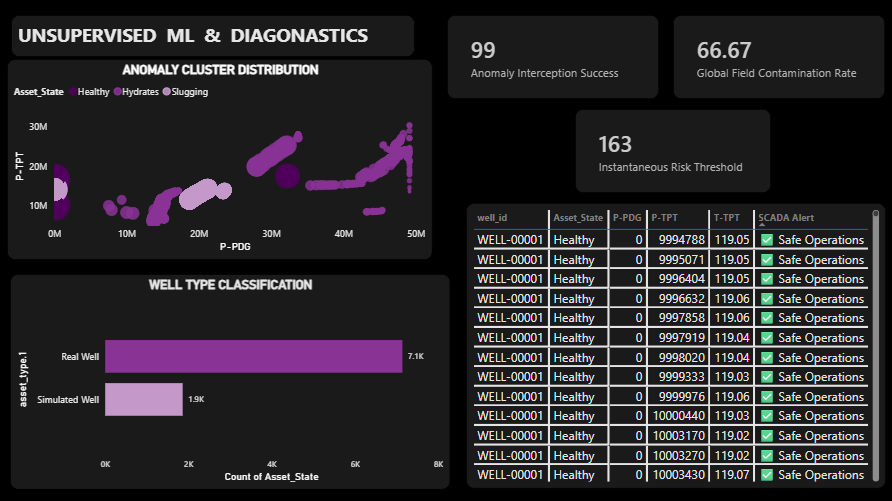

This screenshot's page, from the dashboard's own definition file:
{"tool":"powerbi","page":{"name":"Page 3","canvas":[1280,720],"ordinal":2},"visuals":[{"type":"shape","box":[0,0,1280,720],"z":0},{"type":"textbox","box":[16.7,21.7,576.7,60],"z":500},{"type":"cardVisual","fields":{"Data":["balanced_master_data.Anomaly Interception Success"]},"box":[640,21.7,303.3,120],"z":1000},{"type":"cardVisual","fields":{"Data":["balanced_master_data.Global Field Contamination Rate"]},"box":[963.3,21.7,303.3,120],"z":2000},{"type":"cardVisual","fields":{"Data":["balanced_master_data.Instantaneous Risk Threshold"]},"box":[823.3,155,280,120],"z":3000},{"type":"clusteredBarChart","title":"WELL TYPE CLASSIFICATION","fields":{"Category":["balanced_master_data.Asset_Type"],"Y":["CountNonNull(balanced_master_data.Asset_State)"]},"box":[15,391.2,628.8,307.5],"z":4000},{"type":"scatterChart","title":"ANOMALY CLUSTER DISTRIBUTION","fields":{"X":["balanced_master_data.P-PDG"],"Y":["balanced_master_data.P-TPT"],"Series":["balanced_master_data.Asset_State"],"Size":["Sum(balanced_master_data.T-TPT)"]},"box":[11.7,85,608.3,286.7],"z":5000},{"type":"tableEx","fields":{"Values":["balanced_master_data.well_id","balanced_master_data.Asset_State","balanced_master_data.P-PDG","balanced_master_data.P-TPT","balanced_master_data.T-TPT","balanced_master_data.SCADA Alert"]},"box":[666.7,290,600,408.3],"z":6000}]}

Visuals, with their boxes in screenshot pixels (x1, y1, x2, y2), scaled from the page's 1280x720 canvas onto the 892x501 screenshot:
shape: <box>0,0,891,500</box>
textbox: <box>12,15,414,57</box>
cardVisual - balanced_master_data.Anomaly Interception Success: <box>446,15,657,99</box>
cardVisual - balanced_master_data.Global Field Contamination Rate: <box>671,15,883,99</box>
cardVisual - balanced_master_data.Instantaneous Risk Threshold: <box>574,108,769,191</box>
"WELL TYPE CLASSIFICATION" clusteredBarChart: <box>10,272,449,486</box>
"ANOMALY CLUSTER DISTRIBUTION" scatterChart: <box>8,59,432,259</box>
tableEx - balanced_master_data.well_id x balanced_master_data.Asset_State: <box>465,202,883,486</box>
